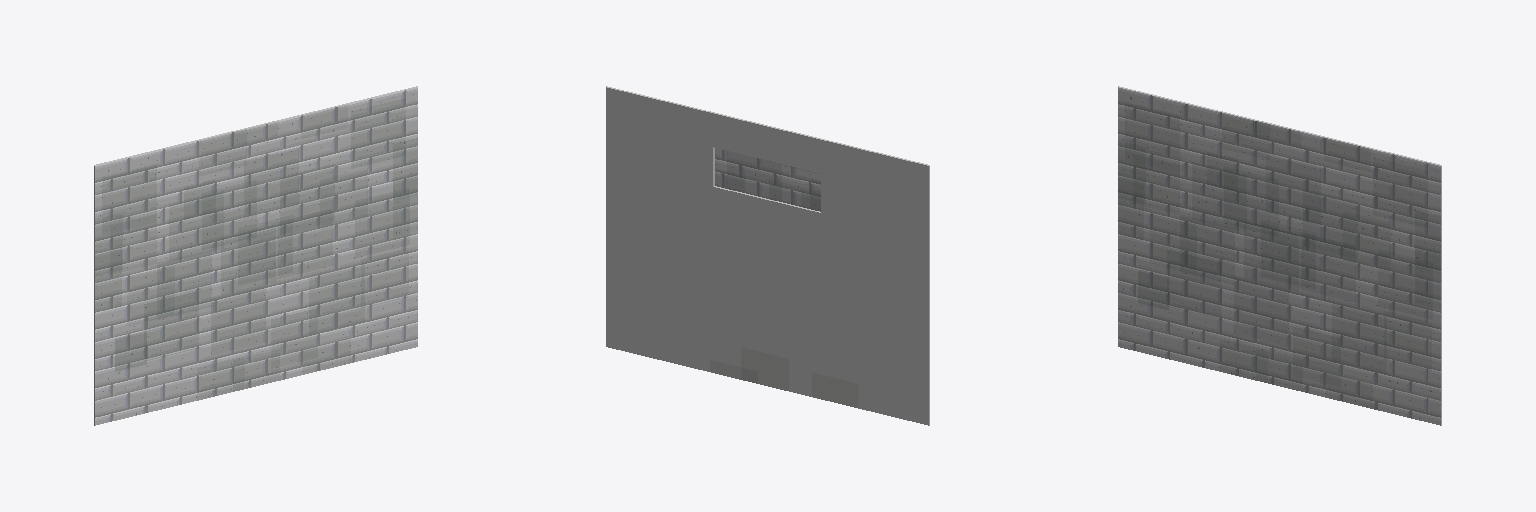
3 renders of one model, left to right at view 1: azimuth 30°, elevation 25°; view 2: azimuth 150°, elevation 25°; view 3: azimuth 330°, elevation 25°, orthographic.
Visible parts, largest first — view 1: cuboid; view 2: cuboid; view 3: cuboid.
Part boxes in pixels (x1,y1,x2,y2): cuboid: (94, 86, 417, 425); cuboid: (606, 86, 929, 425); cuboid: (1118, 86, 1441, 425).
Size of the model in its own units: 18.75 by 14.38 by 0.125.
1 materials, 1 textured.